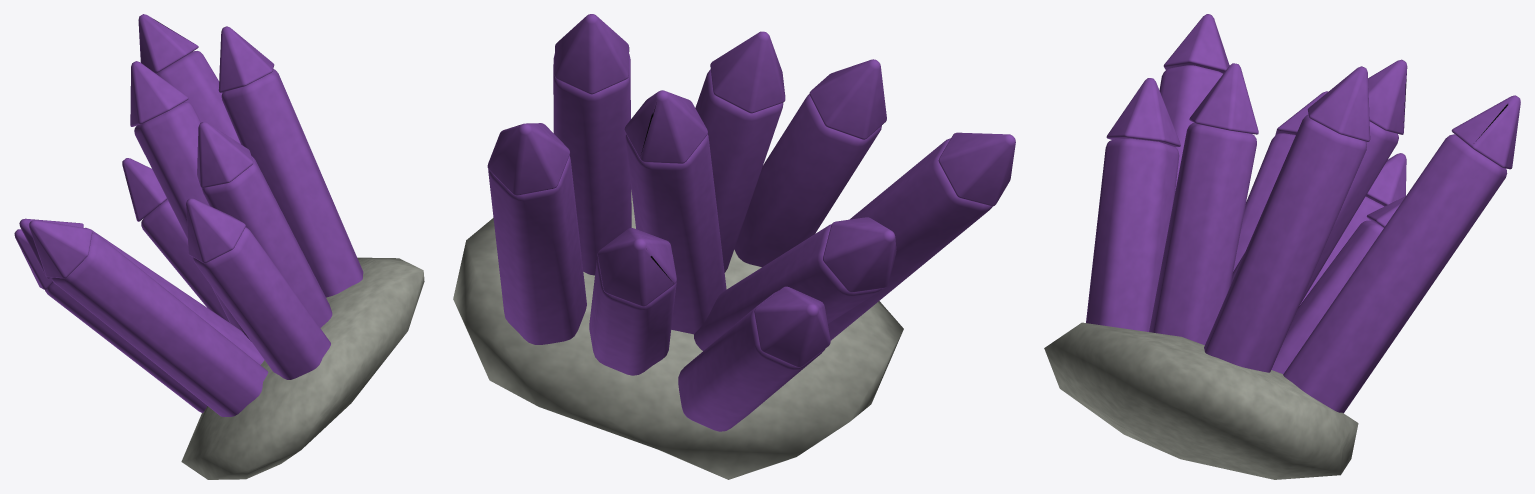
3 views of the same model, side by side, from view 1: azimuth 30°, elevation 25°; view 2: azimuth 150°, elevation 25°; view 3: azimuth 270°, elevation 25° (orthographic). The views are drawn at different scales.
Visible parts, largest first — view 1: Mineral growth base; view 2: Mineral growth base; view 3: Mineral growth base.
Boxes of the visible parts, bbox=[...] form: Mineral growth base: bbox=[14, 14, 424, 479]; Mineral growth base: bbox=[453, 14, 1015, 479]; Mineral growth base: bbox=[1044, 14, 1520, 479].
Bounding box in the file's own units: 1.26 × 1.15 × 1.14.
1 material, 1 textured.
